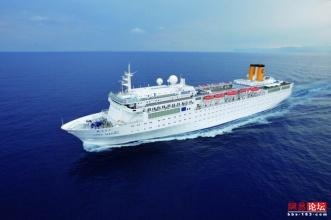youlun: (58, 55, 300, 159)
